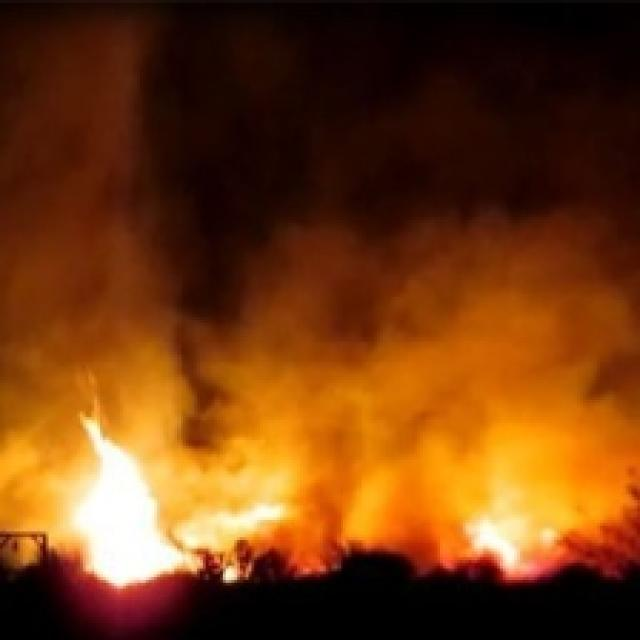Fire: (68, 412, 186, 588), (462, 509, 560, 573), (184, 498, 288, 548)
Smoke: (189, 205, 640, 490), (0, 0, 186, 409)
